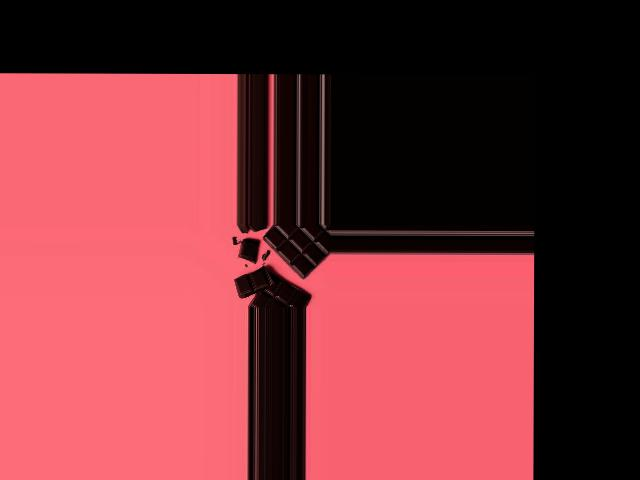chocolate: (240, 224, 331, 302)
